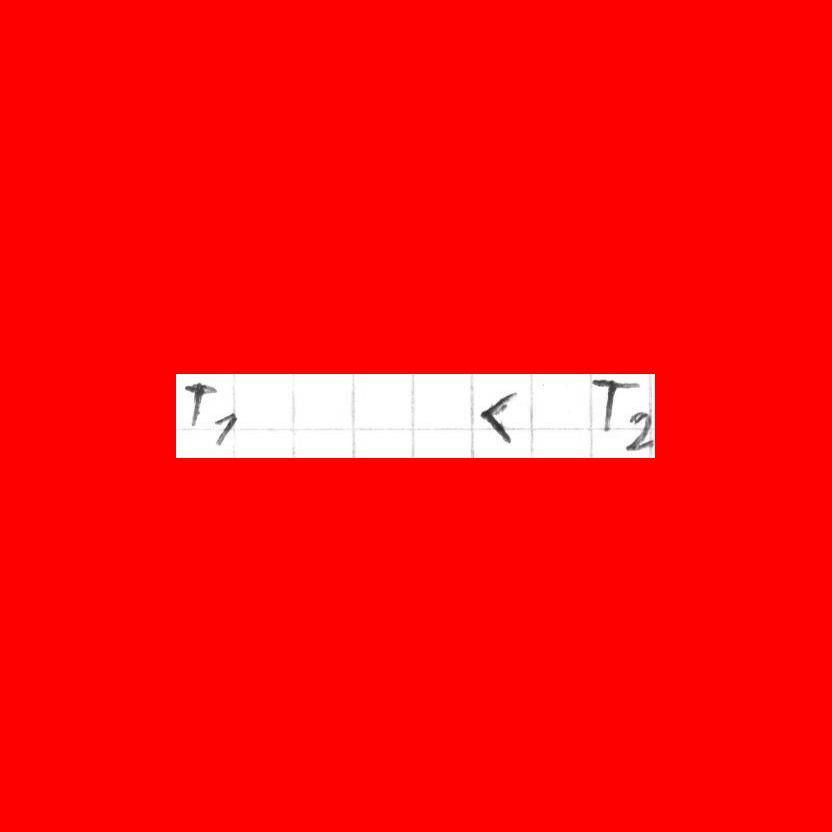Char: (475, 386, 523, 444), (591, 378, 632, 433), (182, 379, 216, 429), (624, 411, 654, 452), (213, 411, 238, 446)
